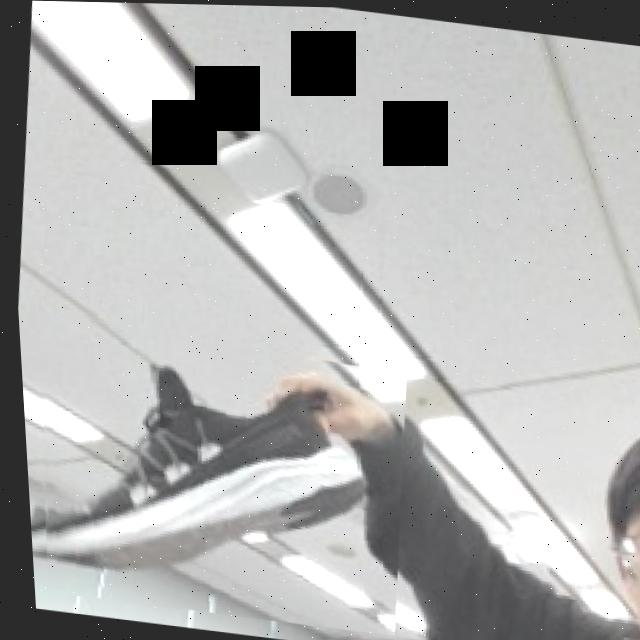shoe: (14, 309, 415, 634)
